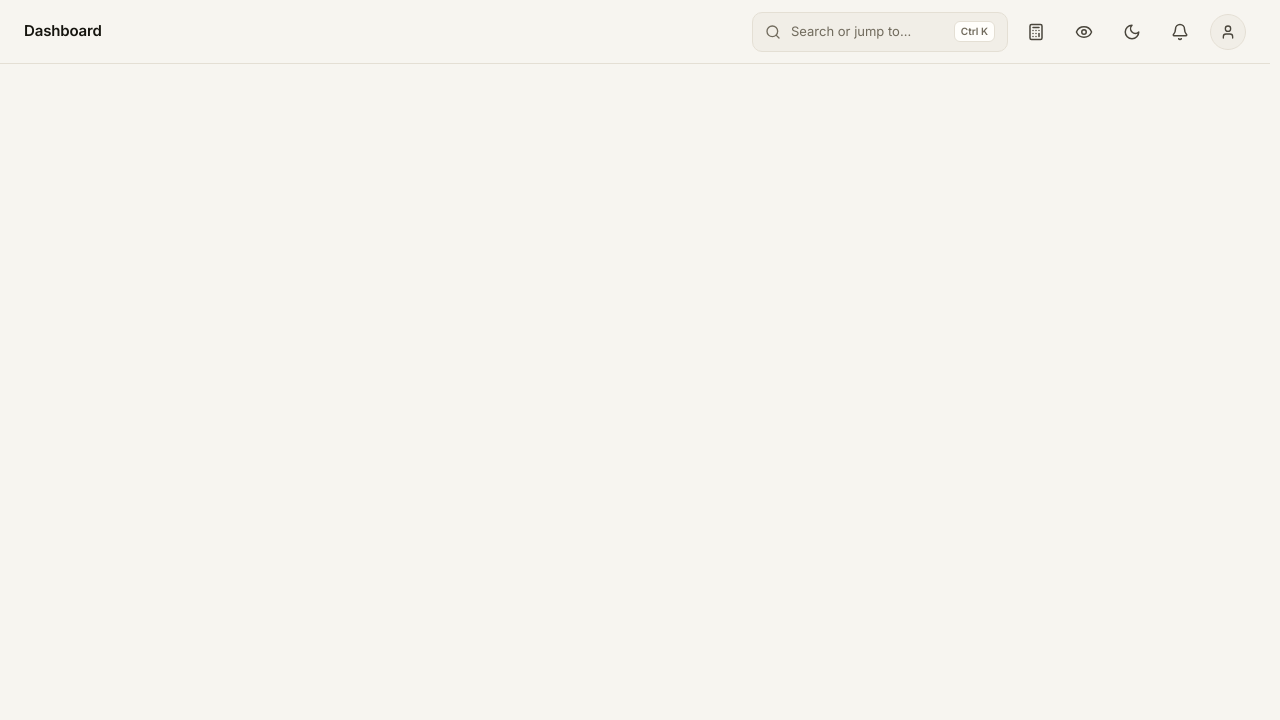
Test case: <TopBar> accessibility (§Phase 16) › opens the Quick Calculator from its header button
Click the button named "Open calculator": (1036, 32) x1=1016 y1=12 x2=1056 y2=52
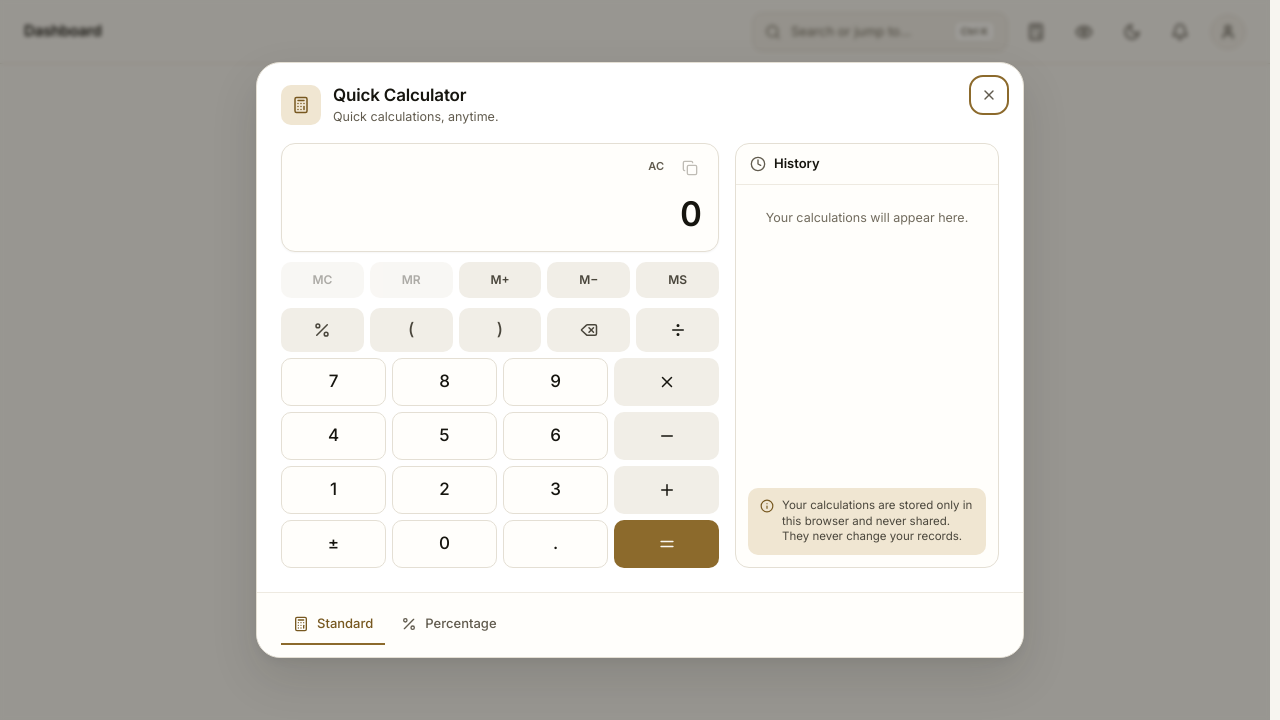
Expected: the element named "Calculator keys" is shown, x1=281 y1=308 x2=719 y2=568
